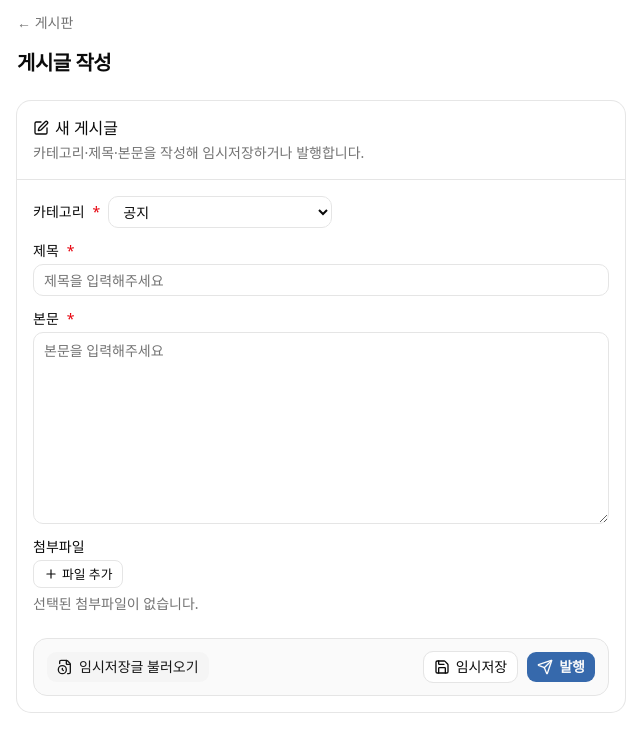
BoardCreatePage (F308) - 임시저장글 인라인 편집 › "임시저장글"에 마우스를 올리면 목록을 보여주고, 항목을 클릭하면 라우트 이동 없이 인라인 편집 폼으로 전환한다
Hover over the button "임시저장글 불러오기".
mouse_move(128, 667)  # box x1=46 y1=651 x2=210 y2=683
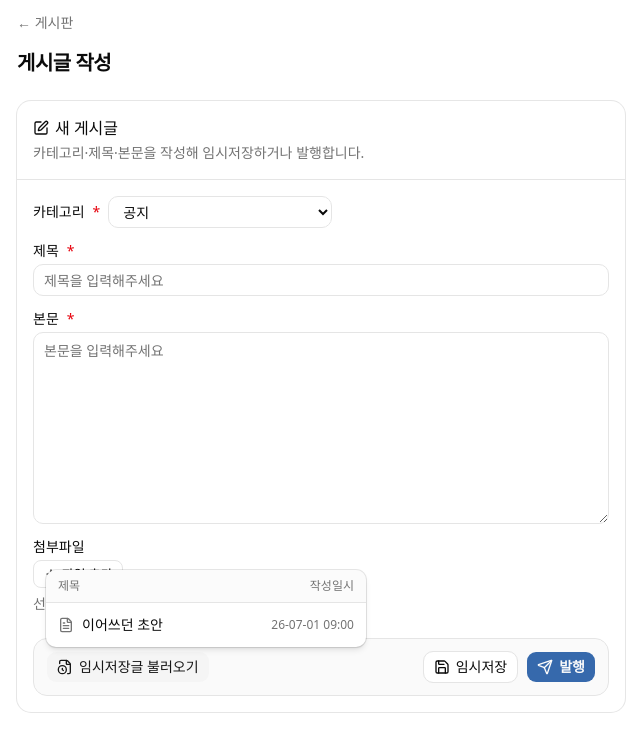
Now the text "이어쓰던 초안" is shown
Click the text "이어쓰던 초안".
click(122, 625)  # box x1=82 y1=615 x2=163 y2=635
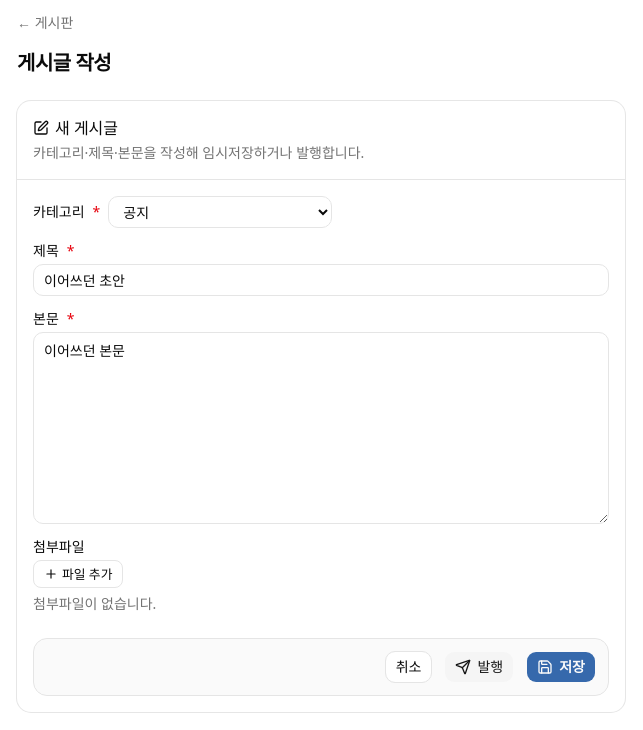
Now the button "저장" is shown, box x1=526 y1=651 x2=596 y2=683
Now the button "발행" is shown, box x1=444 y1=651 x2=514 y2=683
Now the field labelled "제목 *" holds "이어쓰던 초안", box x1=33 y1=264 x2=609 y2=296
